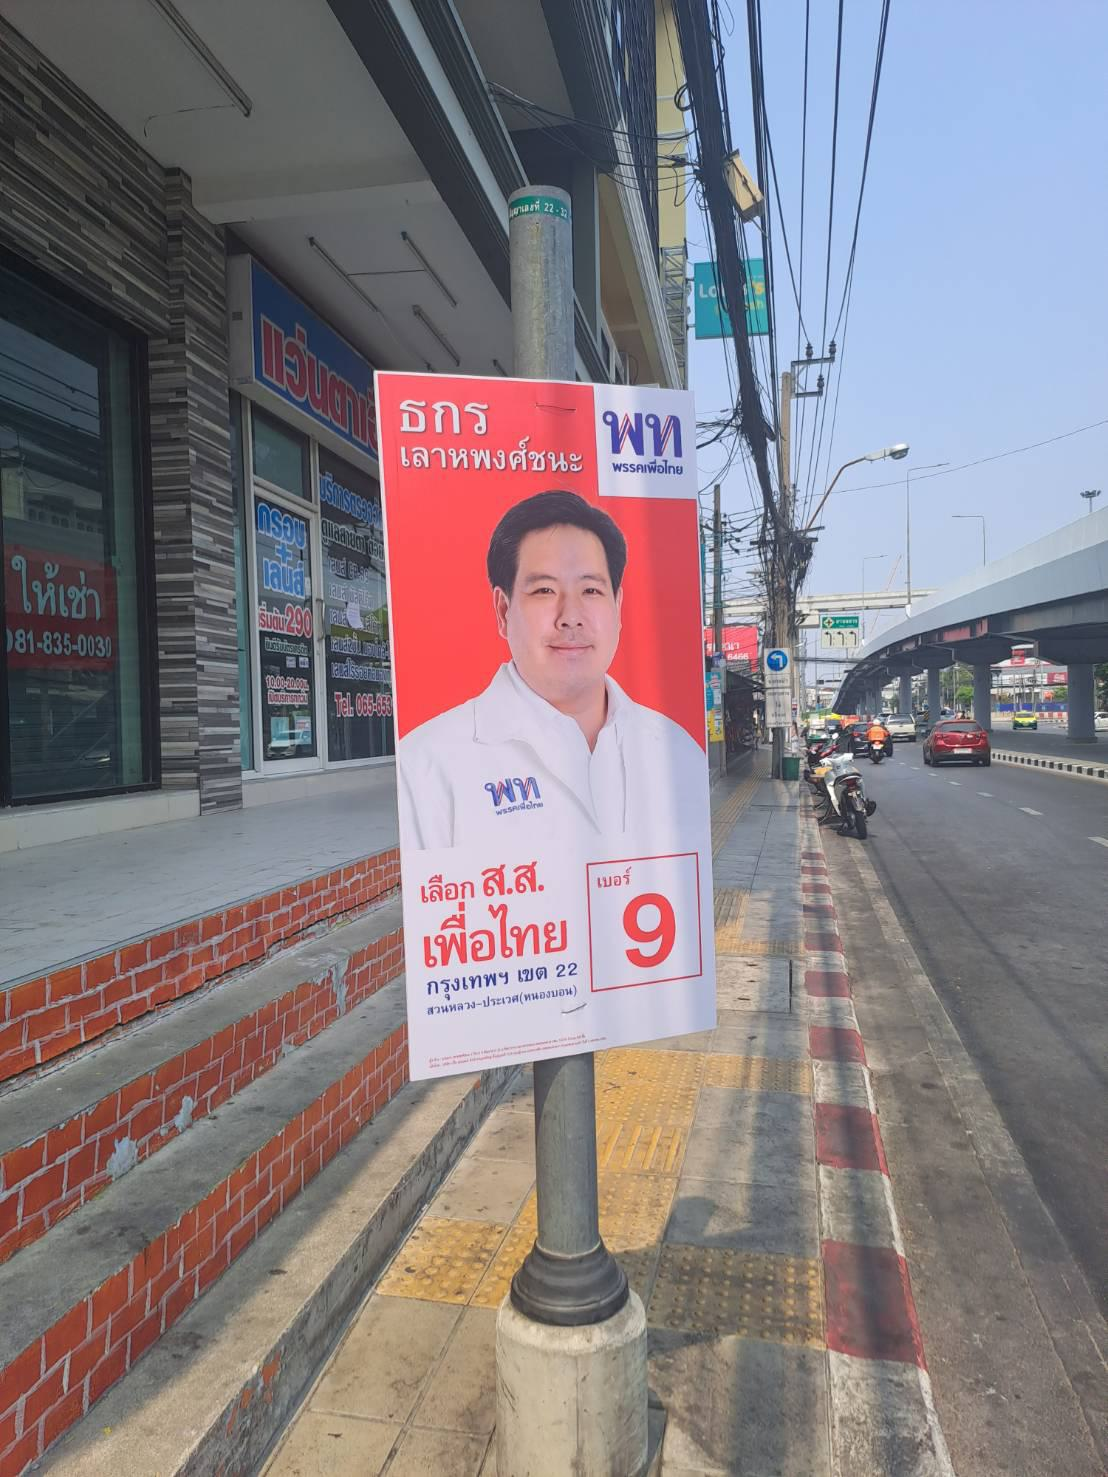Banner: (376, 374, 718, 1082)
